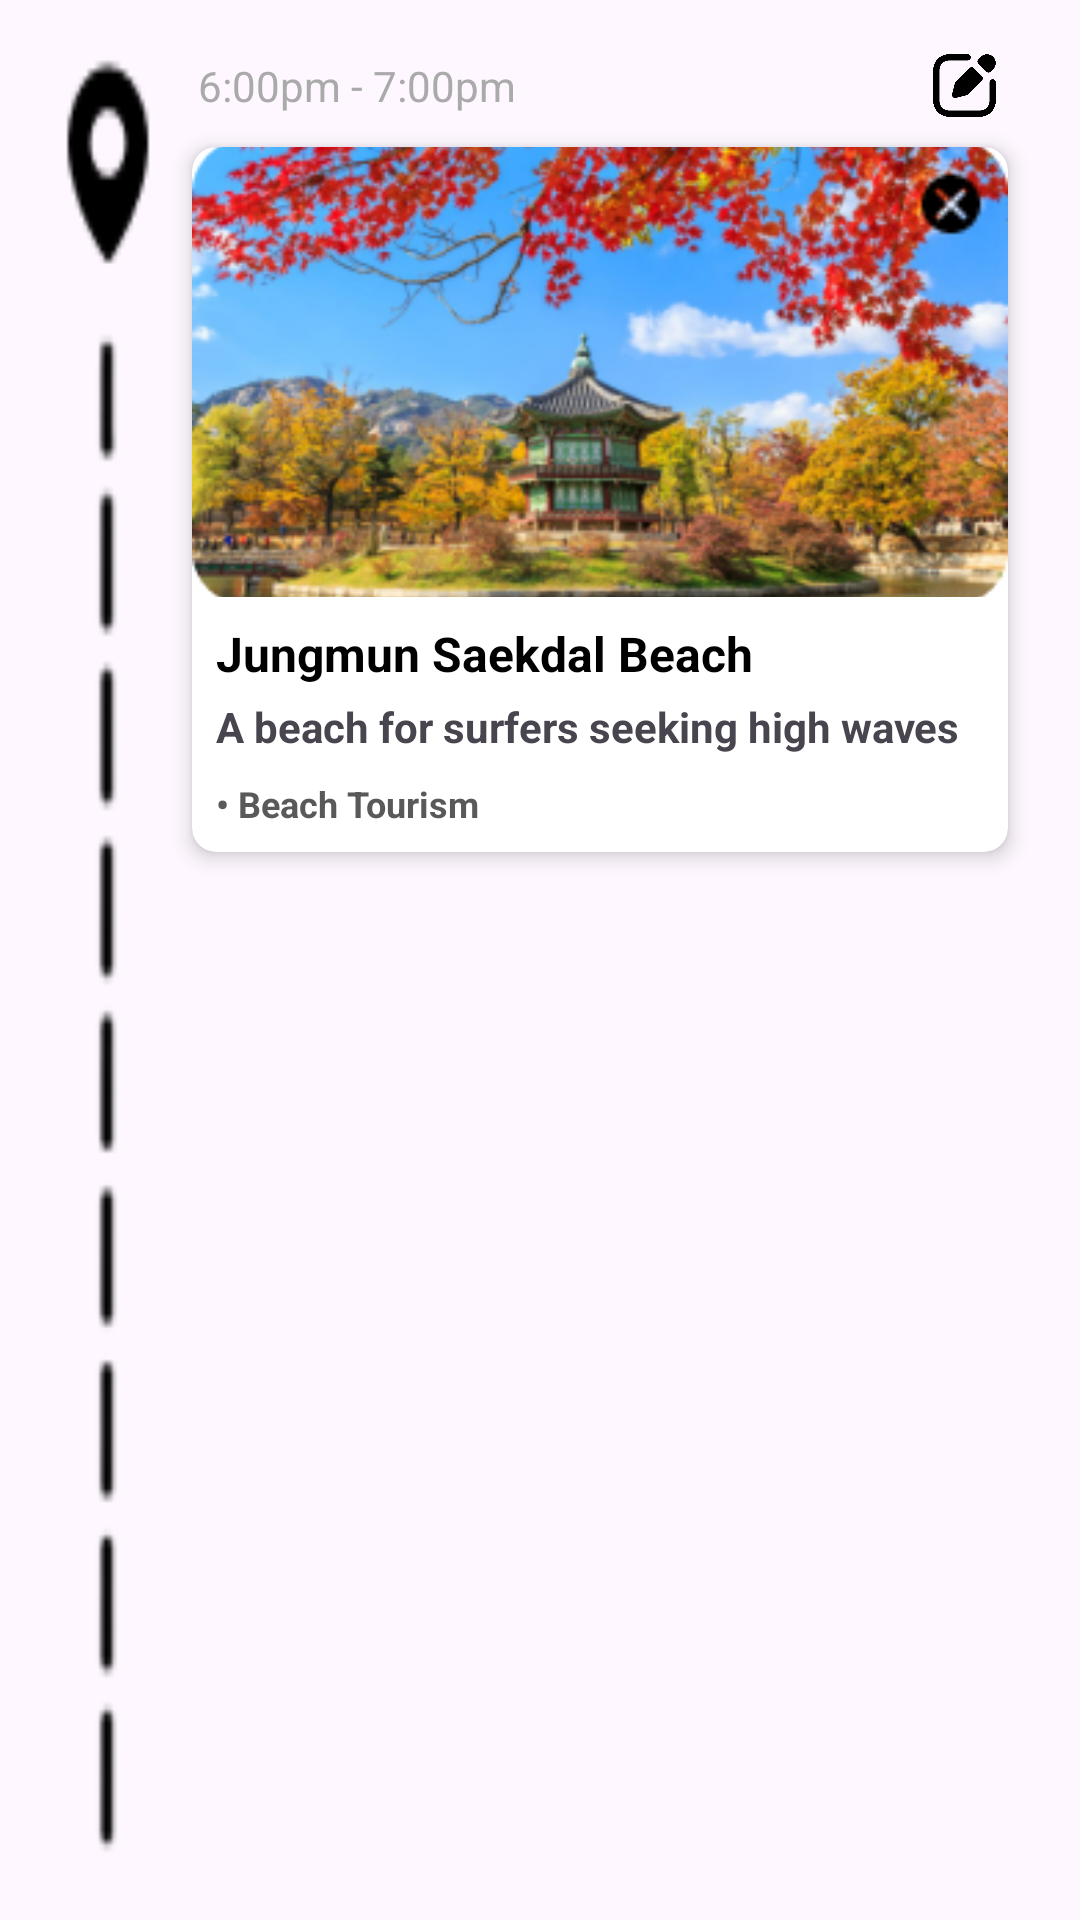

Icons on this 1080 x 1920 Android screen, each with its box as [x1, y1, x2, y2]:
edit: [933, 54, 996, 117]
